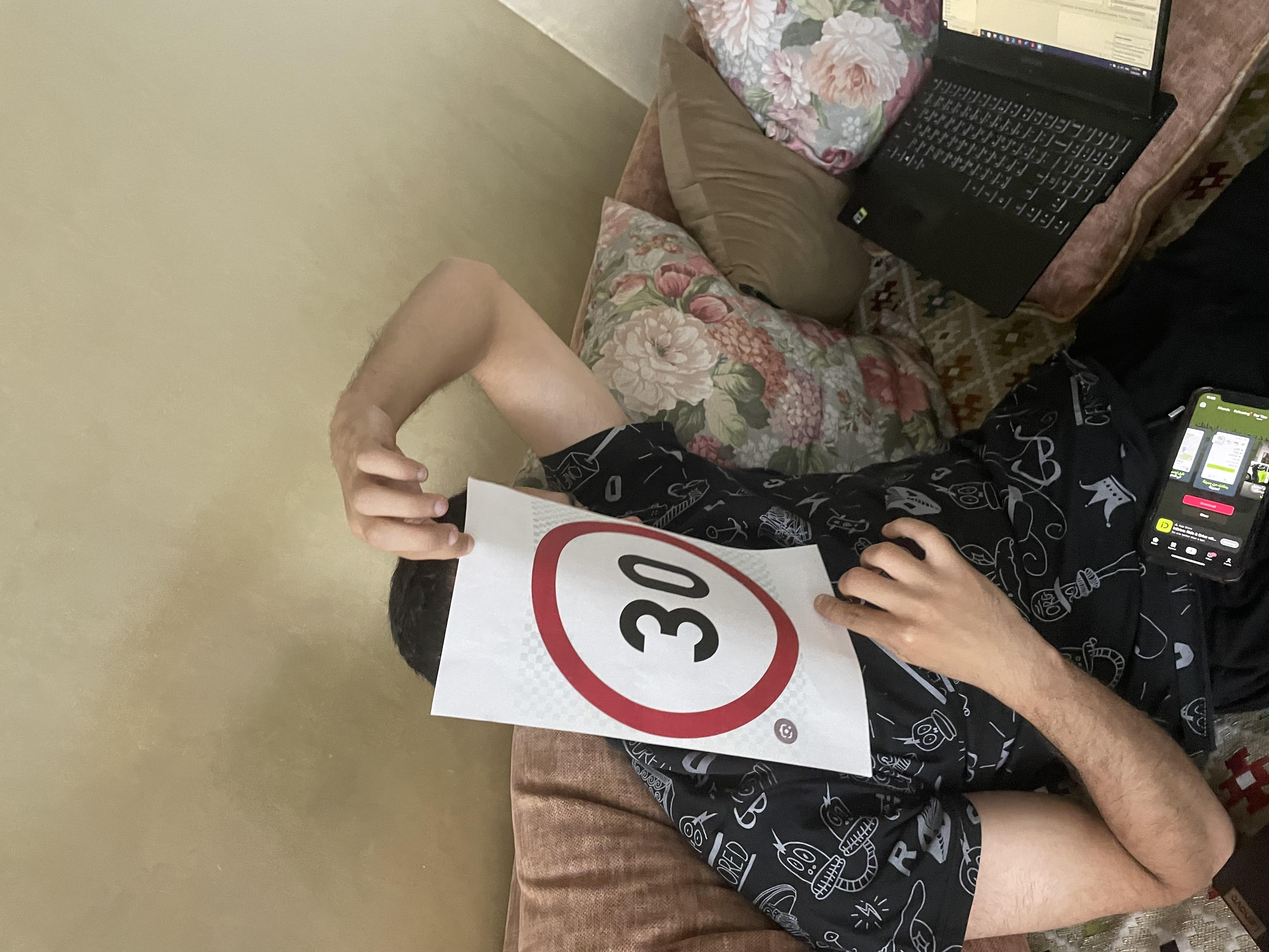30-speed: (281, 395, 586, 594)
